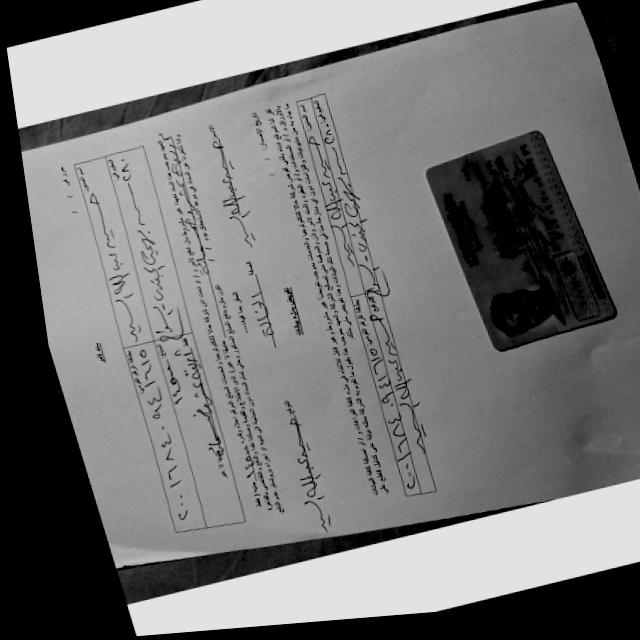id_card: (426, 130, 616, 350)
